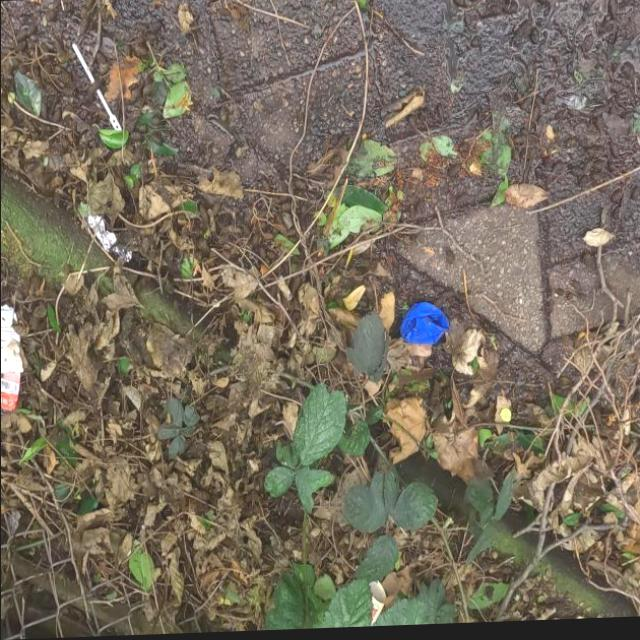Cup: (368, 581, 388, 629)
Plastic: (0, 300, 25, 418)
